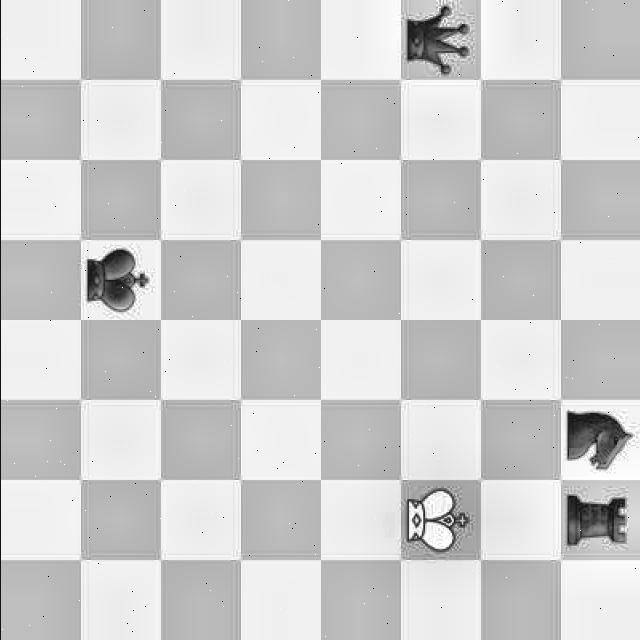Black Knight: (562, 402, 638, 476)
black king: (80, 243, 164, 325)
black queen: (399, 2, 483, 86)
black rook: (563, 482, 639, 556)
white king: (402, 474, 480, 557)
